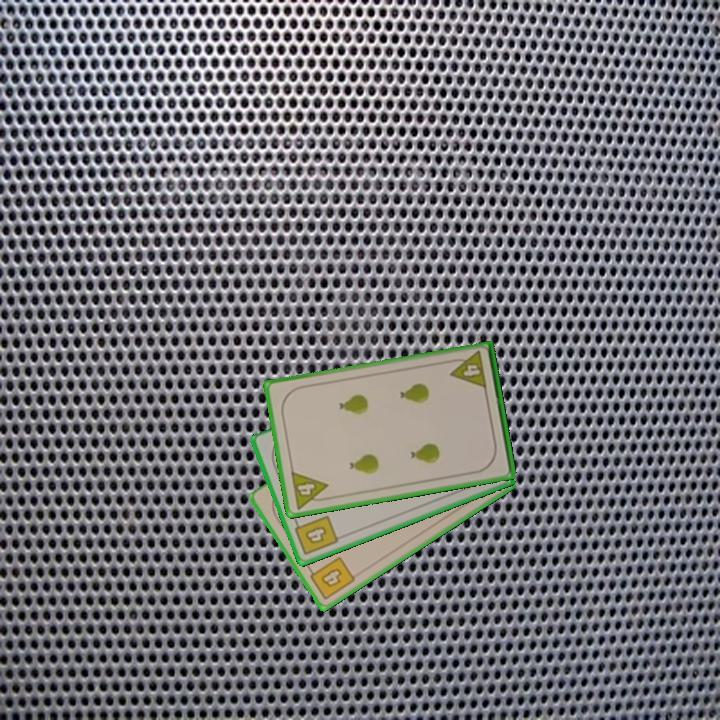4b: (304, 553, 358, 603), (290, 512, 341, 559)
4p: (287, 468, 333, 512), (445, 348, 489, 392)
